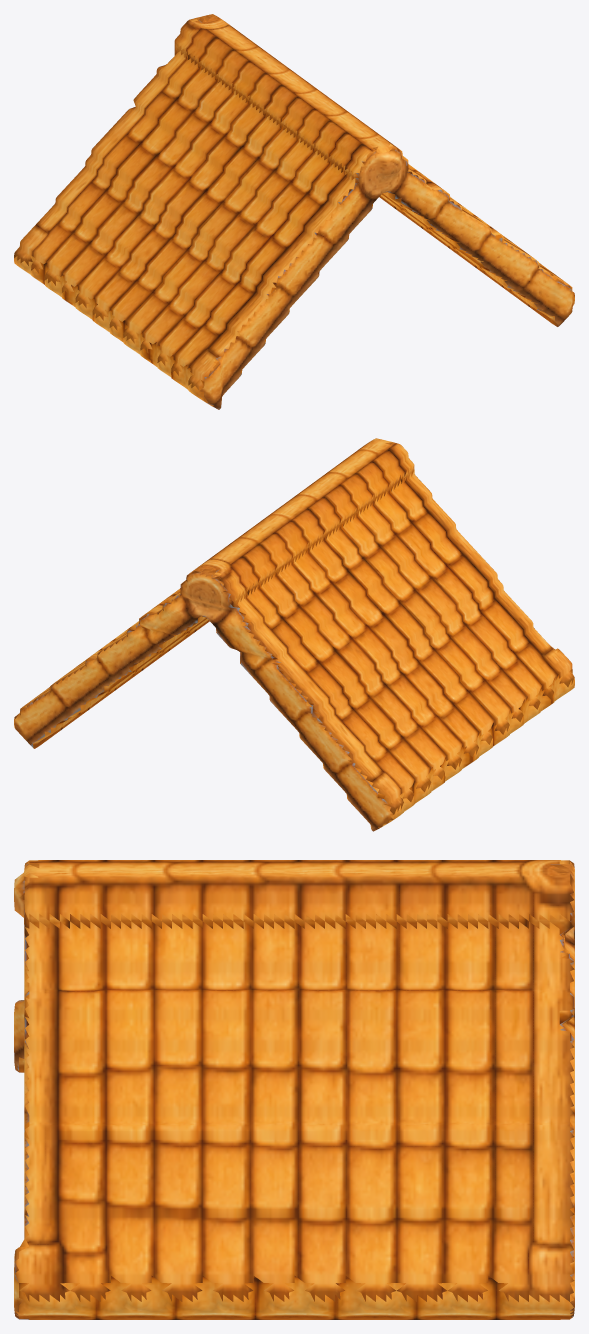
The model's file is bakery-roof.glb.
3 renders of one model, top to bottom at view 1: azimuth 30°, elevation 25°; view 2: azimuth 150°, elevation 25°; view 3: azimuth 270°, elevation 25°, orthographic. The views are drawn at different scales.
Size of the model in its own units: 1.82 by 0.9982 by 1.56.
1 material, 1 textured.
